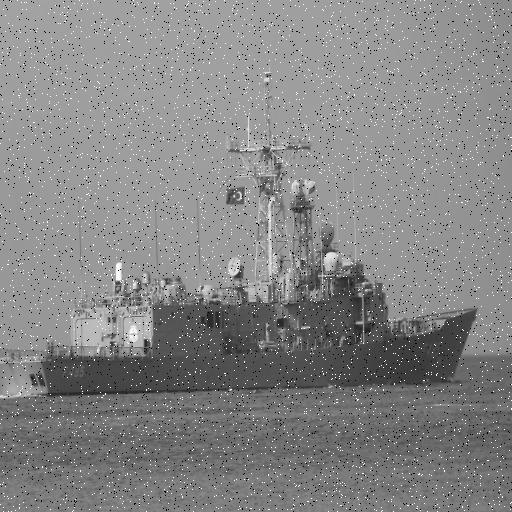Fragata: (1, 59, 481, 403)
